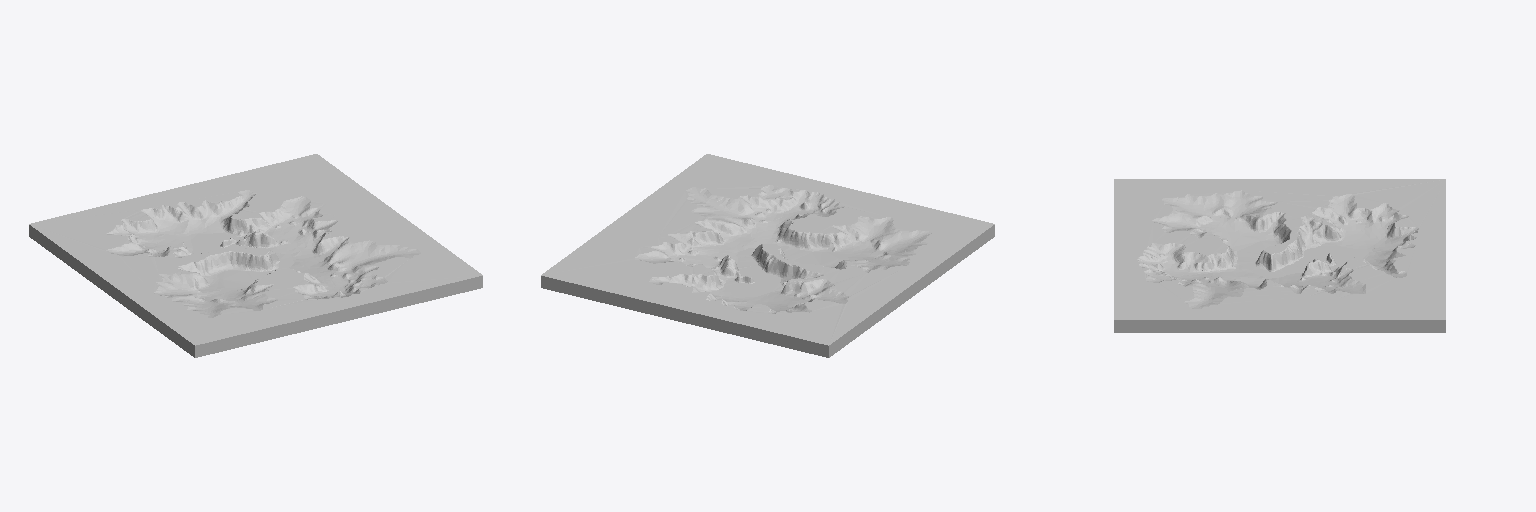
The model's file is sand_terrain.obj.
The picture shows the model from 3 angles: view 1: azimuth 30°, elevation 25°; view 2: azimuth 150°, elevation 25°; view 3: azimuth 270°, elevation 25°; orthographic projection.
Visible parts, largest first — view 1: terrain1_Untitled; view 2: terrain1_Untitled; view 3: terrain1_Untitled.
Boxes of the visible parts, box(x1,y1,x2,y2) form: terrain1_Untitled: box(29, 154, 482, 357); terrain1_Untitled: box(541, 154, 994, 357); terrain1_Untitled: box(1114, 179, 1445, 332).
Size of the model in its own units: 281 by 11.7 by 281.